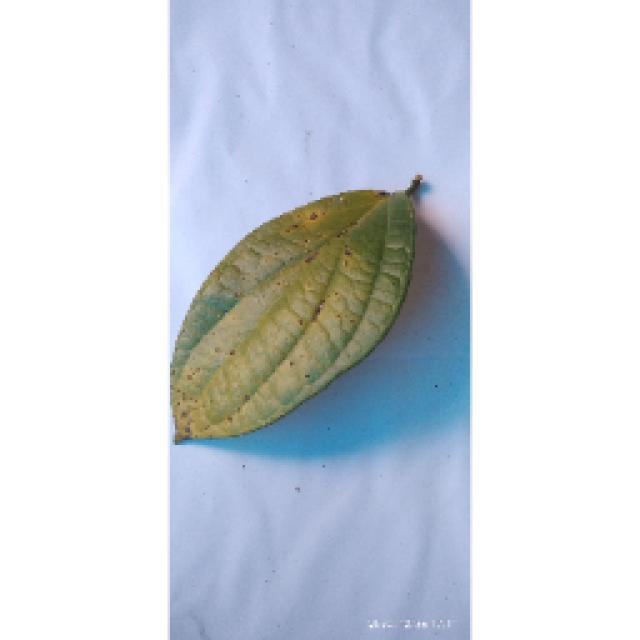slow-decline: (165, 177, 423, 445)
